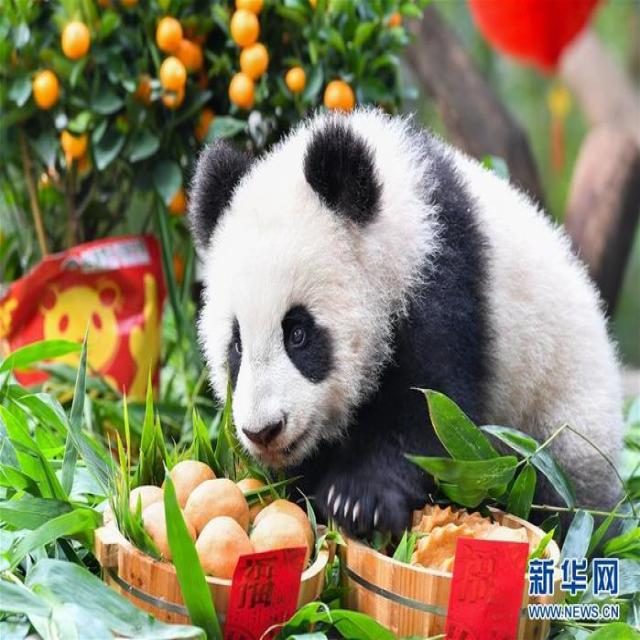panda: (150, 102, 623, 548)
